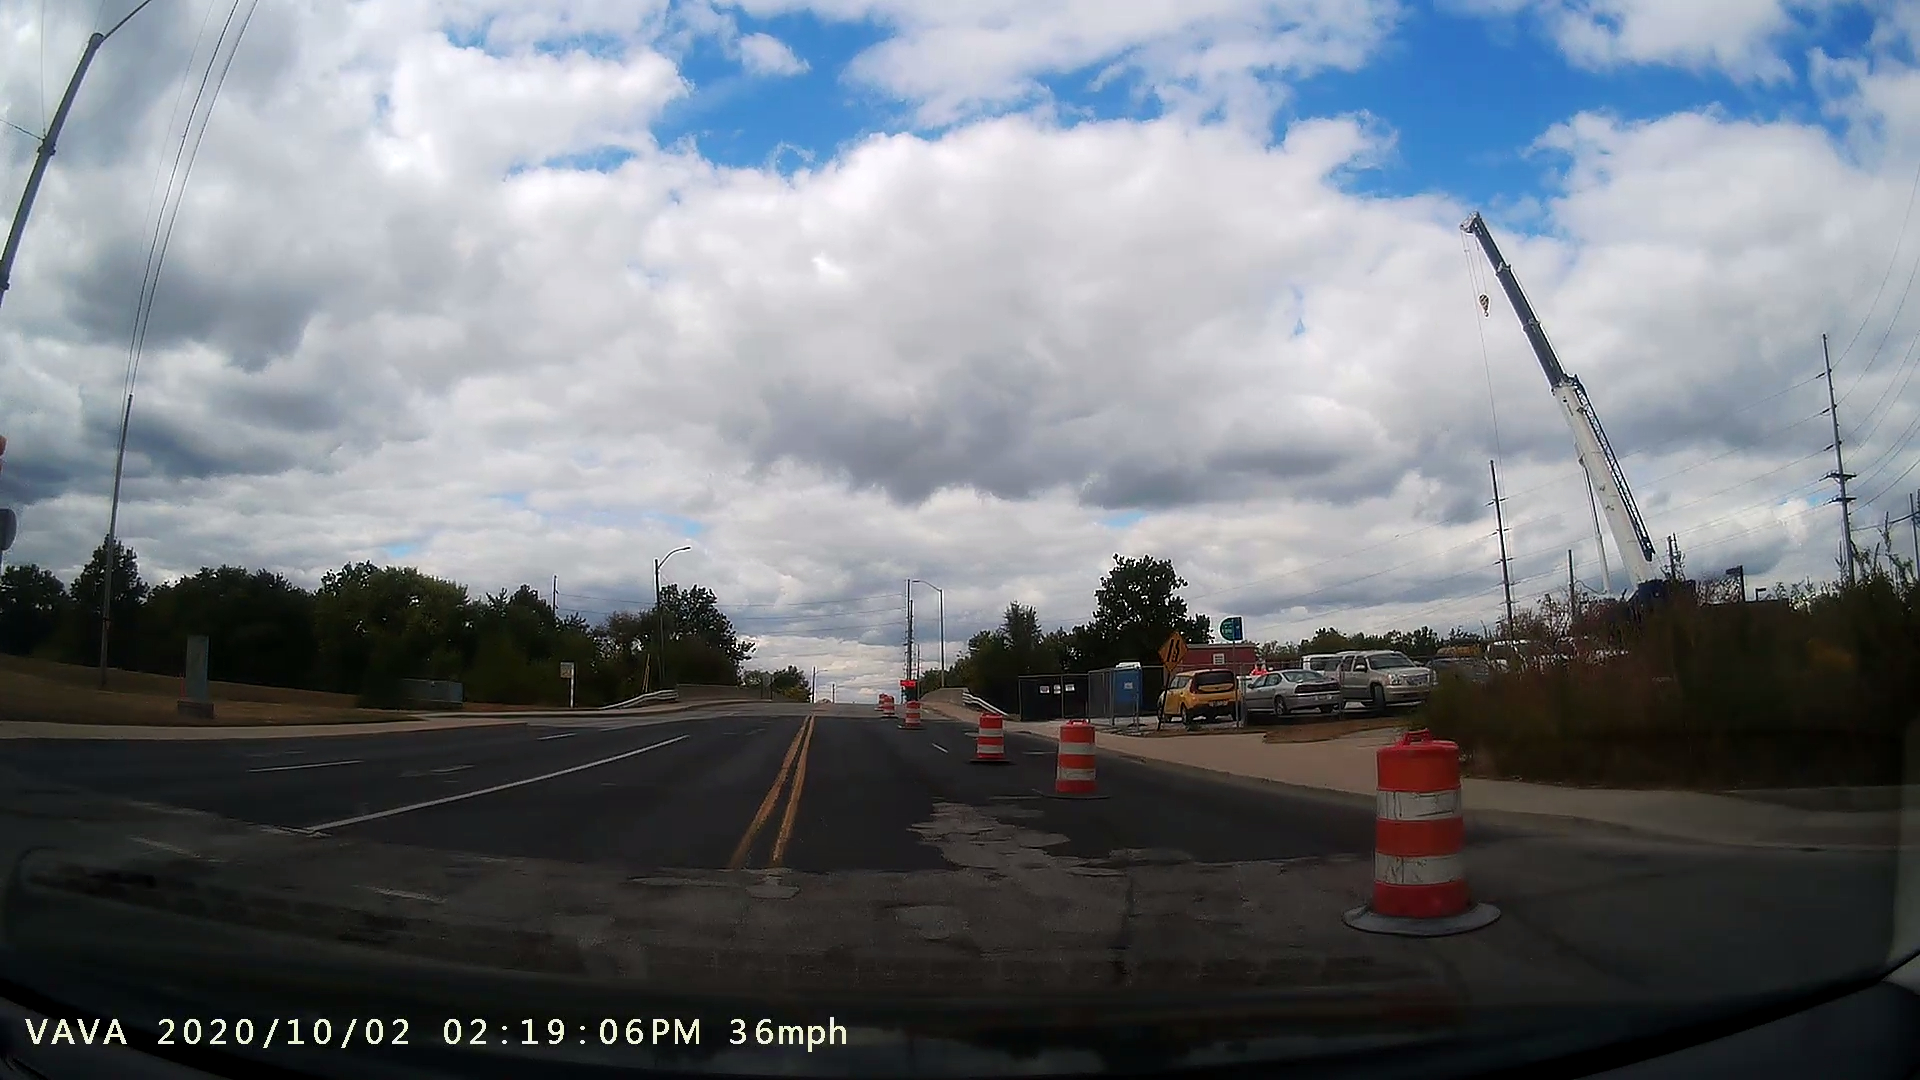const_barrel: (1337, 717, 1509, 945), (1047, 708, 1106, 811), (952, 699, 1025, 781)
